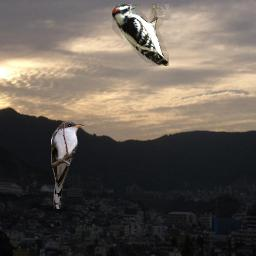Cuckoo: (50, 120, 84, 209)
Woodpecker: (112, 4, 169, 66)
